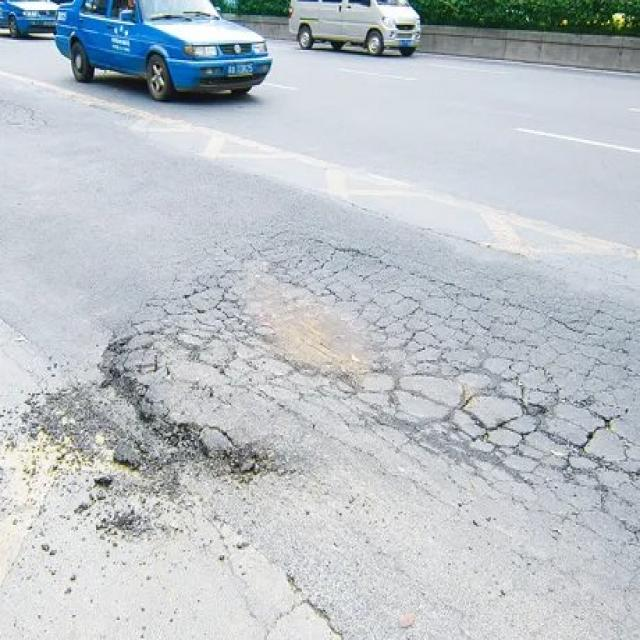Pothole: (68, 362, 270, 526), (227, 252, 373, 380)
